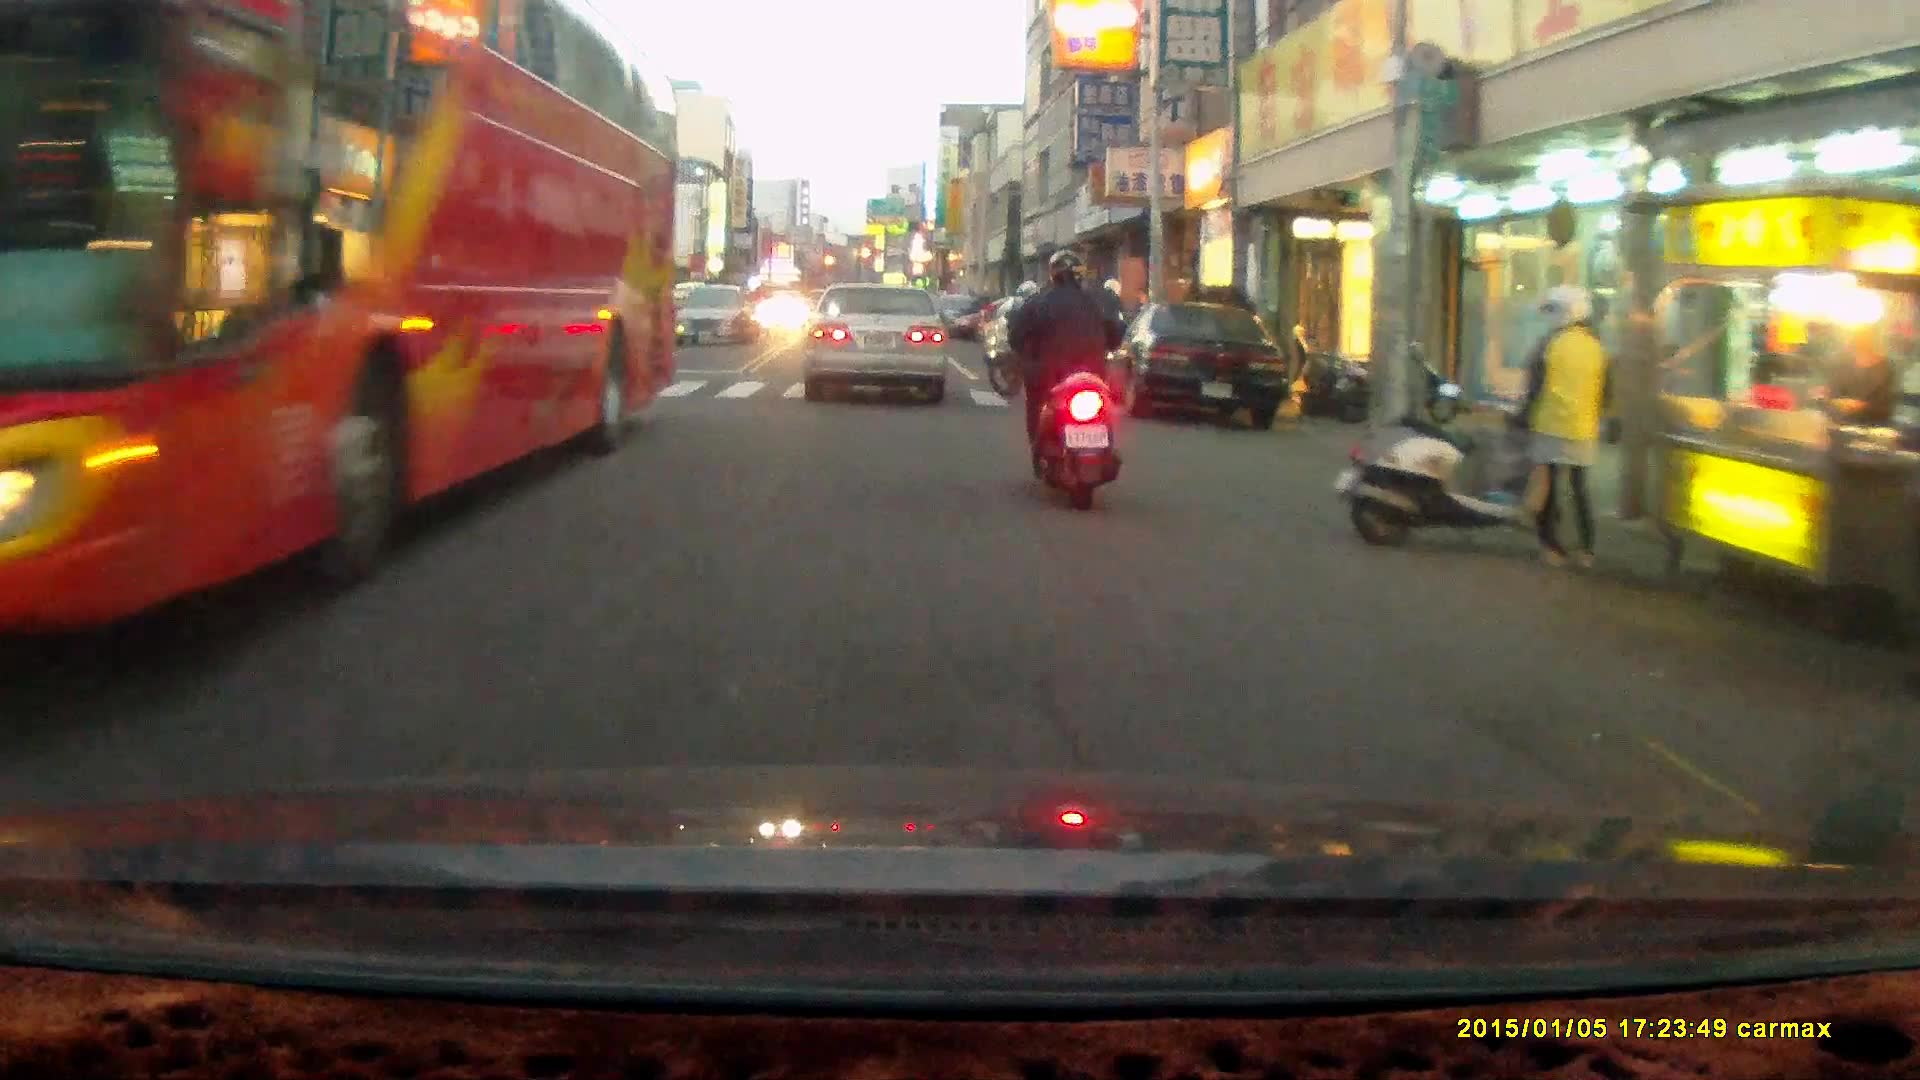pedestrian: (1520, 280, 1615, 576)
rider: (998, 247, 1123, 513)
vehicle: (1, 16, 689, 627), (1102, 301, 1300, 430), (804, 280, 951, 403), (677, 285, 757, 351)
